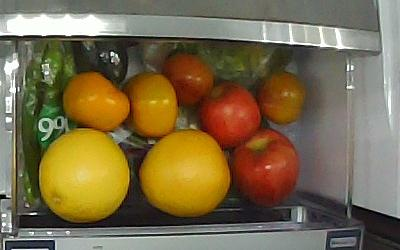apple: (228, 127, 300, 208), (199, 80, 261, 150)
grapefruit: (38, 128, 131, 223), (138, 129, 231, 219)
persimmon: (62, 71, 131, 132), (123, 73, 177, 138)
prune: (259, 70, 307, 127), (162, 53, 214, 105)
